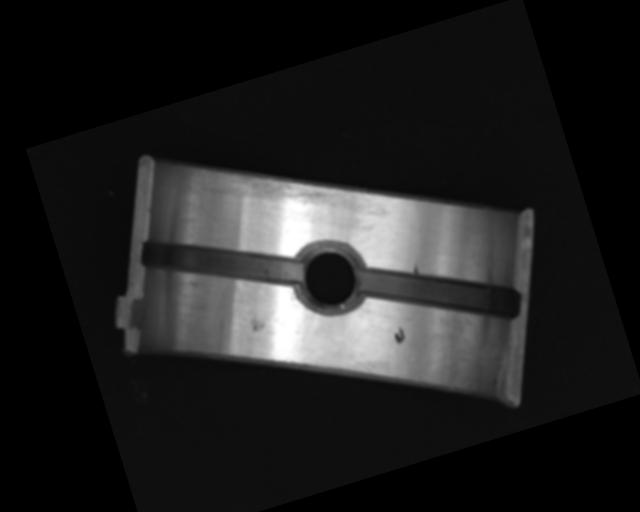blot: (390, 323, 407, 346)
bruise: (248, 312, 267, 334), (409, 262, 420, 276)
gap: (355, 230, 521, 356), (139, 200, 304, 320)
hole: (286, 232, 372, 323)
scratch: (184, 125, 351, 242)
